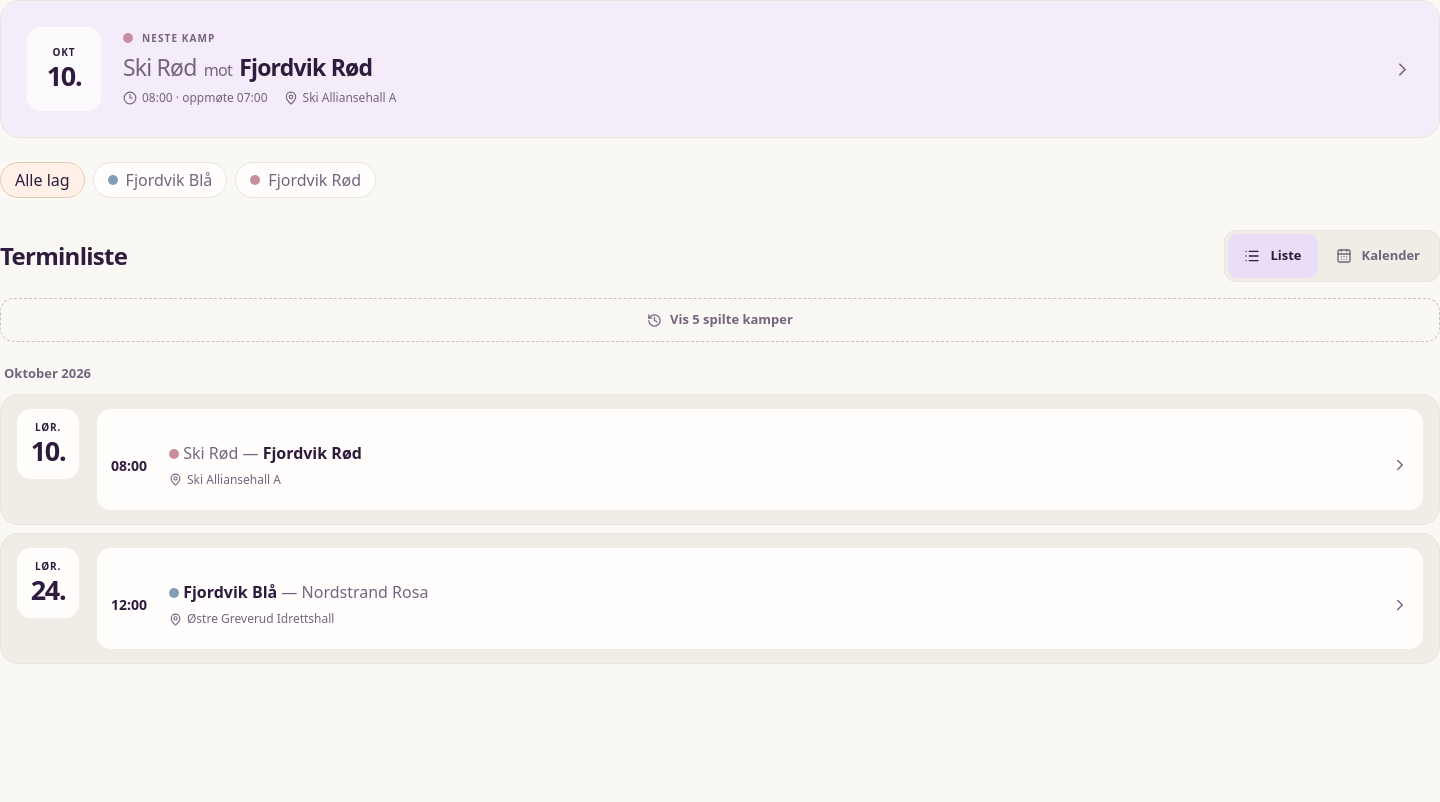
Test: MatchCalendar › opens the grid on the next match's month
Click the button "Kalender" at (1378, 256), box [1320,234,1436,278]
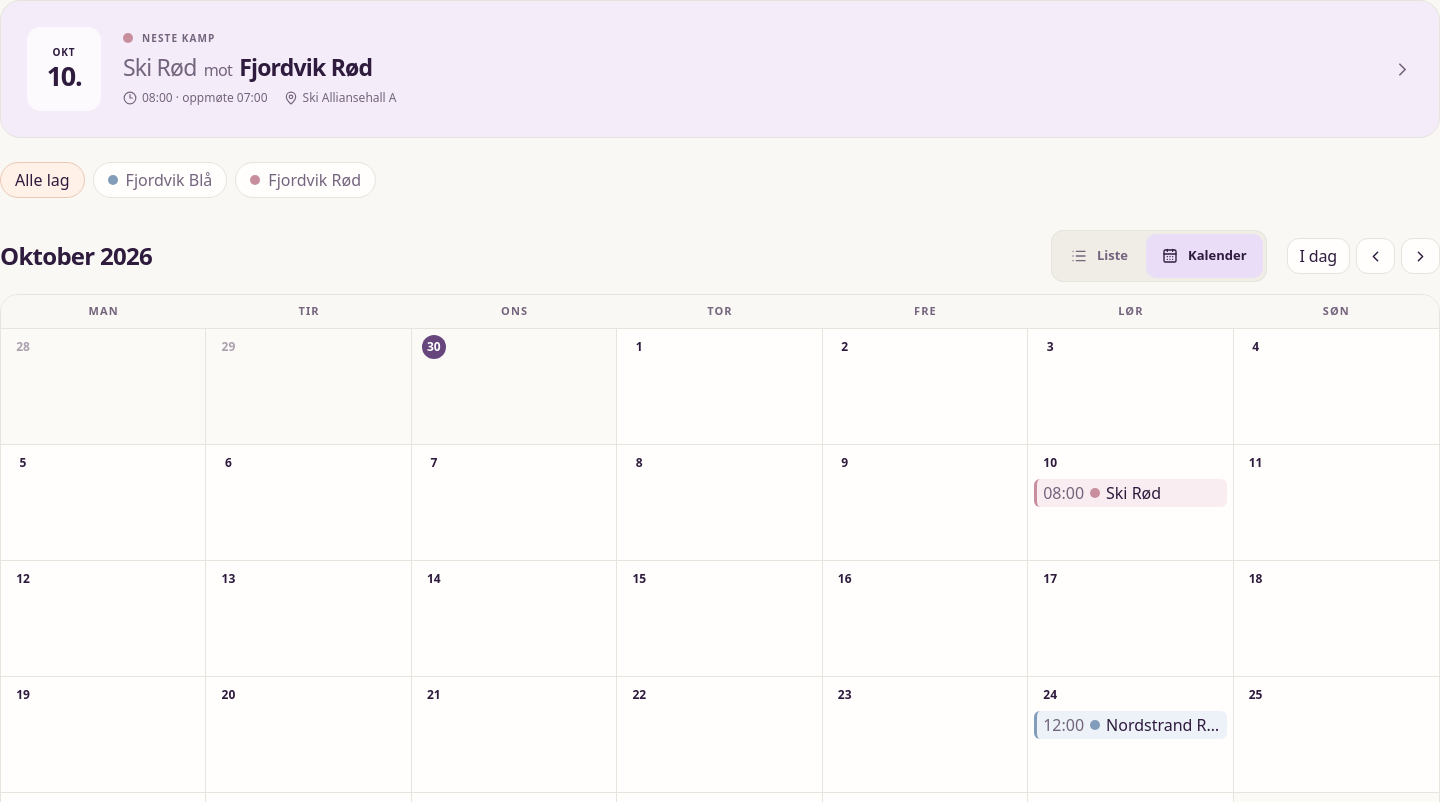
Expected: the text "Nordstrand Rosa" is shown, [1106,712,1222,736]
Now the heading reads "oktober 2026", box [0,239,152,272]
Click the button "I dag" at (1318, 256), box [1286,238,1350,274]
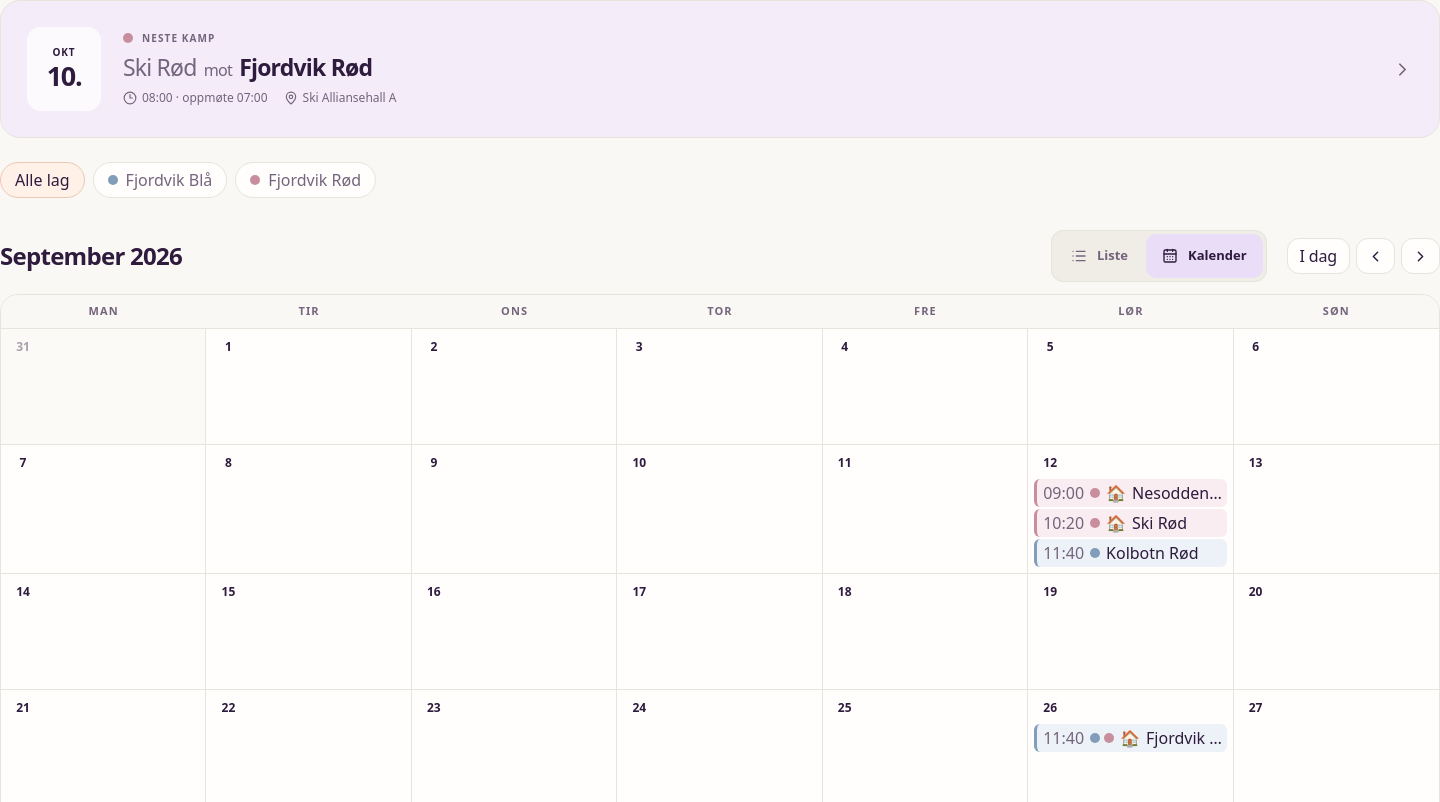
Now the heading reads "september 2026", box [0,239,182,272]
